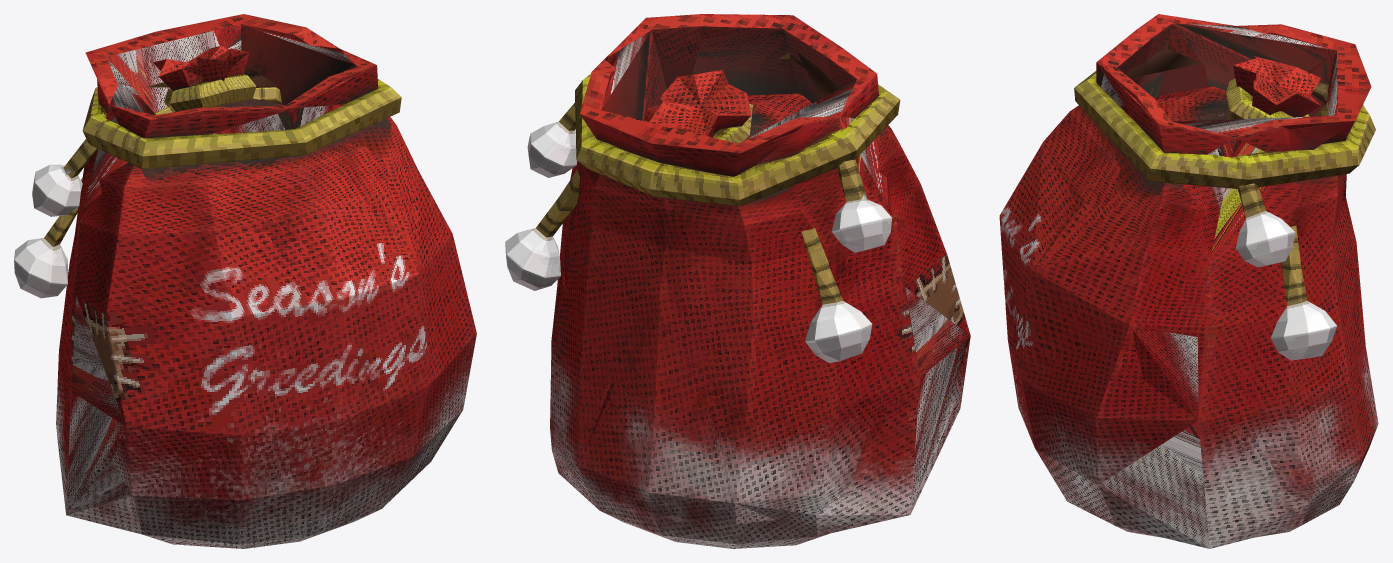
Rendered from item_backpack_santasack.glb.
3 renders of one model, left to right at view 1: azimuth 30°, elevation 25°; view 2: azimuth 150°, elevation 25°; view 3: azimuth 270°, elevation 25°, orthographic. The views are drawn at different scales.
Visible parts, largest first — view 1: Santsack_open, Santsack_Closed; view 2: Santsack_open, Santsack_Closed; view 3: Santsack_open, Santsack_Closed.
Part boxes in pixels (x1,y1,x2,y2): Santsack_open: (32, 14, 476, 548); Santsack_Closed: (14, 46, 472, 548); Santsack_open: (527, 14, 970, 543); Santsack_Closed: (505, 69, 970, 548); Santsack_open: (999, 14, 1375, 537); Santsack_Closed: (1009, 56, 1378, 548).
Bounding box in the file's own units: 0.4976 × 0.609 × 0.4612.
1 material, 1 textured.
